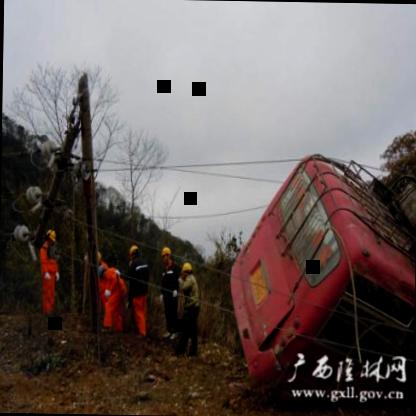helmet: (124, 240, 141, 265), (157, 241, 172, 268), (44, 227, 58, 249), (178, 260, 194, 278)
